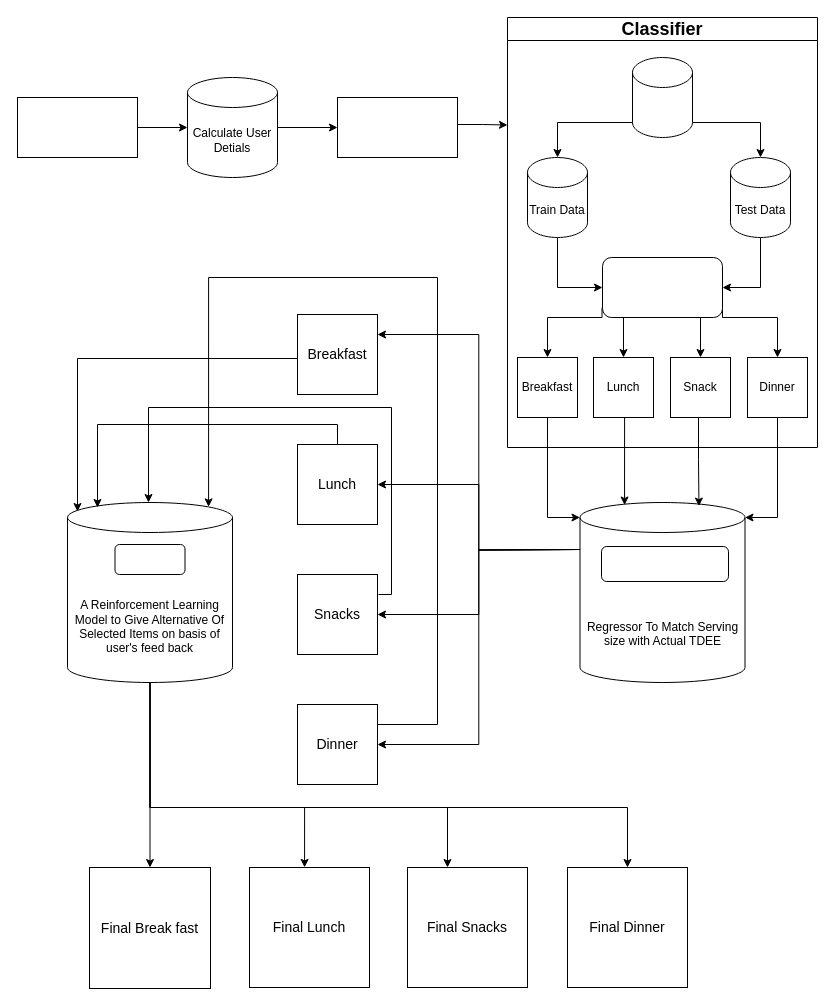
Some shapes in this 835 by 1006 pixel diagram are drawn without their labels. Here are the shapes that lost their labels. From the top down, the centre of each, then its label:
At point (662, 97): "Dataset".
At point (77, 127): "User Input Data".
At point (397, 127): "BMR / TDEE".
At point (662, 287): "MLPs".
At point (149, 559): "DQN".
At point (664, 564): "Linear Regression".
